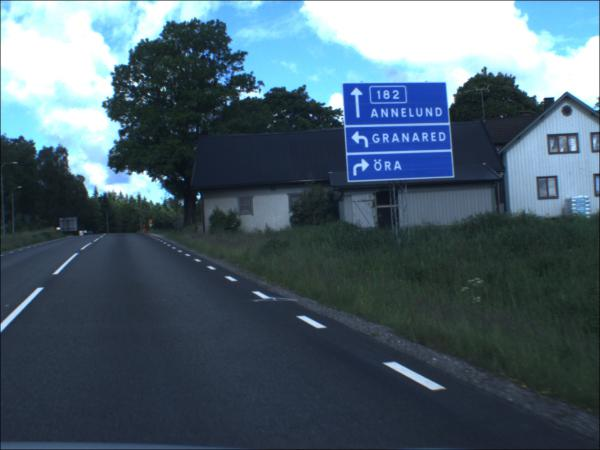80_SIGN: (150, 220, 155, 225)
PRIORITY_ROAD: (151, 225, 155, 229)
